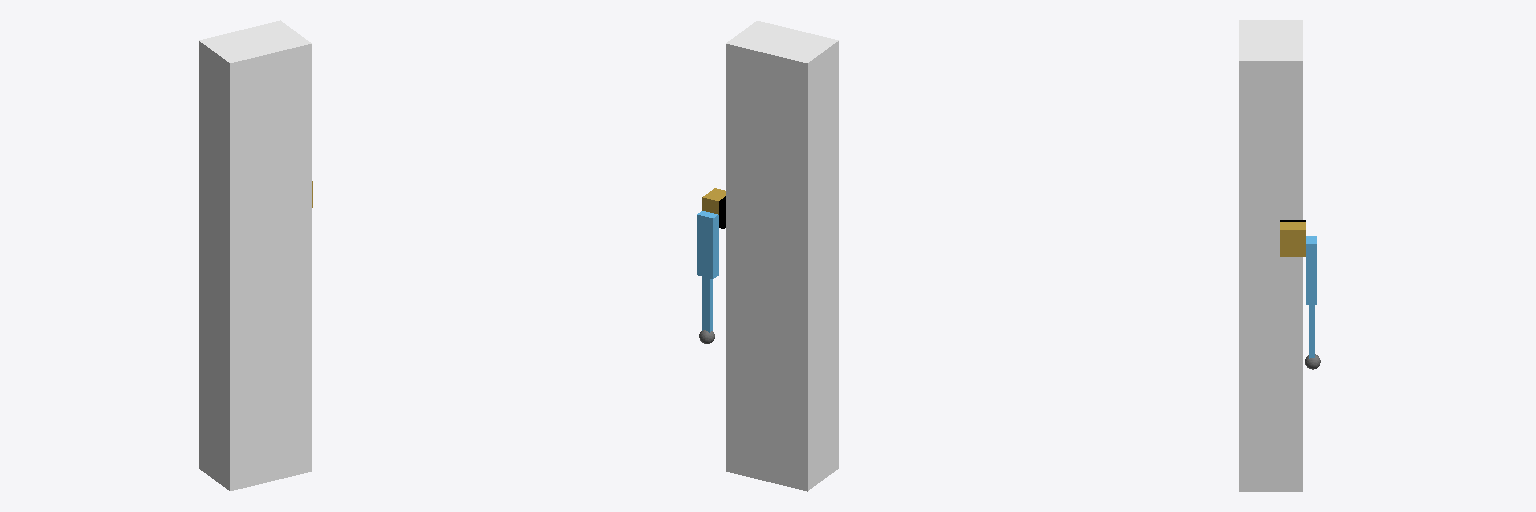
URDF robot description (leg):
<?xml version="1.0" ?>


<robot name="leg" xmlns:xacro="http://www.ros.org/wiki/xacro">


    <gazebo>
        <plugin filename="libgazebo_ros_control.so" name="gazebo_ros_control">
            <robotNamespace>/leg</robotNamespace>
            <robotSimType>
                gazebo_ros_control/DefaultRobotHWSim
            </robotSimType>
        </plugin>
    </gazebo>

    <gazebo>
        <plugin filename="libgazebo_ros_p3d.so" name="p3d_base_controller">
            <alwaysOn>true</alwaysOn>
            <updateRate>10.0</updateRate>
            <bodyName>trunk</bodyName>
            <bodyName>hip</bodyName>
            <bodyName>calf</bodyName>
            <bodyName>foot</bodyName>
            <topicName>odom</topicName>
            <gaussianNoise>0.01</gaussianNoise>
            <frameName>world</frameName>
            <xyzOffsets>0 0 0</xyzOffsets>
            <rpyOffsets>0 0 0</rpyOffsets>
        </plugin>
  </gazebo>


    <material name="black">
        <color rgba="0.0 0.0 0.0 1.0"/>
    </material>
    <material name="blue">
        <color rgba="0.0 0.0 0.8 1.0"/>
    </material>
    <material name="green">
        <color rgba="0.0 0.8 0.0 1.0"/>
    </material>
    <material name="grey">
        <color rgba="0.2 0.2 0.2 1.0"/>
    </material>
    <material name="silver">
        <color rgba="0.913725490196 0.913725490196 0.847058823529 1.0"/>
    </material>
    <material name="orange">
        <color rgba="1.0 0.423529411765 0.0392156862745 1.0"/>
    </material>
    <material name="brown">
        <color rgba="0.870588235294 0.811764705882 0.764705882353 1.0"/>
    </material>
    <material name="white_gray">
        <color rgba="0.823529411765 0.823529411765 0.823529411765 1.0"/>
    </material>
    <material name="gold">
        <color rgba="0.811764705882 0.678431372549 0.301960784314 1.0"/>
    </material>
    <material name="white_blue">
        <color rgba="0.462745098039 0.8 0.992156862745 1.0"/>
    </material>
    <material name="white_black">
        <color rgba="0.494117647059 0.494117647059 0.494117647059 1.0"/>
    </material>
    <material name="red">
        <color rgba="0.8 0.0 0.0 1.0"/>
    </material>
    <material name="white">
        <color rgba="1.0 1.0 1.0 1.0"/>
    </material>

    <gazebo refrence="trunk">
        <mu1>0.9</mu1>
        <mu2>0.9</mu2>
        <material>Gazebo/DarkGrey</material>
    </gazebo>

    <gazebo refrence="jump">
        <mu1>0.9</mu1>
        <mu2>0.9</mu2>
        <material>Gazebo/DarkGrey</material>
    </gazebo>

    <gazebo reference="hip">
        <mu1>0.9</mu1>
        <mu2>0.9</mu2>
        <material>Gazebo/Orange</material>
  </gazebo>
  <gazebo reference="thigh">
        <mu1>0.9</mu1>
        <mu2>0.9</mu2>
        <self_collide>1</self_collide>
        <material>Gazebo/White</material>
        <kp value="1000000.0"/>
        <kd value="1.0"/>
  </gazebo>
  <gazebo reference="calf">
        <mu1>0.9</mu1>
        <mu2>0.9</mu2>
        <self_collide>1</self_collide>
      <material>Gazebo/DarkGray</material>
  </gazebo>
  <gazebo reference="foot">
        <mu1>0.9</mu1>
        <mu2>0.9</mu2>
        <self_collide>1</self_collide>
        <material>Gazebo/DarkGray</material>
        <kp value="1000000.0"/>
        <kd value="1.0"/>
  </gazebo>

    <link name="world"/>
    <gazebo reference="world">
        <static>true</static>
    </gazebo>

    <link name="trunk">
        <visual>
        <origin rpy="0 0 0" xyz="0 0 0.75"/>
        <geometry>
            <box size="0.3 0.2 1.5"/>
        </geometry>
        <material name="white"/>
        </visual>
        <collision>
            <origin rpy="0 0 0" xyz="0 0 0.75"/>
            <geometry>
                <box size="0.3 0.2 1.5"/>
            </geometry>
        </collision>
        <inertial>
            <origin rpy="0 0 0" xyz="0 0 0.75"/>
            <mass value="100"/>
            <inertia ixx="0.011253" ixy="0" ixz="0.0" iyy="0.036203" iyz="-0.0" izz="0.042673"/>
            </inertial>
        </link>

    <joint name="trunk_to_world" type="fixed">
        <origin rpy="0 0 0" xyz="0 0 0"/>
        <parent link="world"/>
        <child link="trunk"/>
    </joint>

    <joint name="jumper" type="prismatic">
        <parent link="trunk"/>
        <axis xyz="0 0 1"/>
        <child link="jump"/>
        <limit effort="20" lower="-0.2" upper="0.5" velocity="0.5"/>
        <origin rpy="0 0 0" xyz="0.15 0.07 0.9"/>
        <dynamics damping="0.1" friction="1"/>
    </joint>


    <link name="jump">
        <visual>
            <origin rpy="3.14159265359 0 0" xyz="0.01 0 0"/>
            <geometry>
                <box size="0.02 0.08 0.093"/>
            </geometry>
            <material name="black"/>
        </visual>
        <collision>
            <origin rpy="3.14159265359 0 0" xyz="0.01 0 0"/>
            <geometry>
                <box size="0.02 0.08 0.093"/>
            </geometry>
        </collision>
        <inertial>
            <origin rpy="0 0 0" xyz="0.01 0 0"/>
            <mass value="0.002"/>
            <inertia ixx="0.0007148275" ixy="0.0" ixz="0.0" iyy="0.0007955775" iyz="0.0" izz="0.00068875"/>
        </inertial>
    </link>

    <joint name="hip_joint" type="revolute">
        <origin rpy="0 0 0" xyz="0.02 0 0"/>
        <parent link="jump"/>
        <child link="hip"/>
        <axis xyz="1 0 0"/>
        <dynamics damping="0.1" friction="0.1"/>
        <limit effort="20" lower="-0.872664625997" upper="1.0471975512" velocity="1.6"/>
  </joint>

  <link name="hip">
    <visual>
      <origin rpy="3.14159265359 0 0" xyz="0.03 0 0"/>
      <geometry>
        <box size="0.06 0.08 0.093"/>
      </geometry>
      <material name="gold"/>
    </visual>
    <collision>
      <origin rpy="3.14159265359 0 0" xyz="0.03 0 0"/>
      <geometry>
        <box size="0.06 0.08 0.093"/>
      </geometry>
    </collision>
    <inertial>
      <origin rpy="3.14159265359 0 0" xyz="0.03 0 0.0"/>
      <mass value="0.63"/>
      <inertia ixx="0.0007148275" ixy="0.0" ixz="0.0" iyy="0.0007955775" iyz="0.0" izz="0.00068875"/>
    </inertial>

  </link>
    <joint name="thigh_joint" type="revolute">
    <origin rpy="0 0 0" xyz="0.03 0.04 0"/>
    <parent link="hip"/>
    <child link="thigh"/>
    <axis xyz="0 1 0"/>
    <dynamics damping="0.1" friction="0.1" />
    <limit effort="20" lower="-0.523598775598" upper="3.92699081699" velocity="1.6"/>
  </joint>

  <link name="thigh">
    <visual>
      <origin rpy="3.14159265359 3.14159265359 0" xyz="0 0.017 -0.10655"/>
      <geometry>
        <box size="0.06 0.034 0.2131"/>
      </geometry>
      <material name="white_blue"/>
    </visual>
    <collision>
      <origin rpy="3.14159265359 3.14159265359 0" xyz="0 0.017 -0.10655"/>
      <geometry>
        <box size="0.06 0.034 0.2131"/>
      </geometry>
      <material name="white_blue"/>
    </collision>
    <inertial>
      <origin rpy="0 0 0" xyz="0.0 0.021 -0.10655"/>
      <mass value="1.062"/>
      <inertia ixx="0.00261820866667" ixy="0.0" ixz="0.0" iyy="0.00265482216667" iyz="0.0" izz="0.000158764166667"/>
    </inertial>
  </link>
  <!-- //////////////////////calf//////////////////// -->
  <joint name="calf_joint" type="revolute">
    <origin rpy="0 0 0" xyz="0 0.01 -0.2131"/>
<!--    <origin rpy="0 0 0" xyz="0 0.01 -0.1881"/>-->
    <parent link="thigh"/>
    <child link="calf"/>
    <axis xyz="0 1 0"/>
    <dynamics damping="0.1" friction="0.1"/>
    <limit effort="20" lower="-3.14159265359" upper="3.14159265359" velocity="1.6"/>
  </joint>
  <link name="calf">
    <visual>
      <origin rpy="0 0 0" xyz="0.0 0.01 -0.10574"/>
      <geometry>
        <box size="0.03 0.02 0.21148"/>
          <!--mesh filename="package://first_leg/mesh/calf.dae" scale="1 1 1"/-->
      </geometry>
      <material name="white_blue"/>
    </visual>
    <collision>
      <origin rpy="0 0 0" xyz="0.0 0.01 -0.10574"/>
      <geometry>
          <box size="0.03 0.02 0.21148"/>
        <!--mesh filename="package://first_leg/mesh/Sim_0_00_04.STL" scale="1 1 1"/-->
      </geometry>
    </collision>
    <inertial>
      <origin rpy="0 0 0" xyz="0.0 0.0 -0.10574"/>
      <mass value="0.133"/>
      <inertia ixx="0.000214698666667" ixy="0.0" ixz="0.0" iyy="0.000214698666667" iyz="0.0" izz="2.73066666667e-06"/>
    </inertial>
  </link>
  <!-- //////////////////////foot//////////////////// -->
  <joint name="foot_fixed" type="fixed">
    <origin rpy="0 0 0" xyz="0 0.01 -0.21148"/>
<!--    <origin rpy="0 0 0" xyz="0 0.01 -0.1881"/>-->
    <parent link="calf"/>
    <child link="foot"/>
    <axis xyz="0 1 0"/>
    <dynamics damping="0.1" friction="0.1"/>
    <limit effort="20" lower="-3.14159265359" upper="3.14159265359" velocity="10.6"/>
  </joint>

  <link name="foot">
    <visual>
      <origin rpy="0 0 0" xyz="0 0.002 0"/>
      <geometry>
        <sphere radius="0.025"/>
      </geometry>
      <material name="white_black"/>
    </visual>
    <collision>
      <origin rpy="0 0 0" xyz="0 0.002 0"/>
      <geometry>
        <sphere radius="0.025"/>
      </geometry>
    </collision>
    <inertial>
      <origin rpy="0 0 0" xyz="0 0.002 -0.025"/>
      <mass value="0.05"/>
      <inertia ixx="4.2135e-05" ixy="0.0" ixz="0.0" iyy="4.2135e-05" iyz="0.0" izz="4.2135e-05"/>
    </inertial>
  </link>

  <!--/////////////// transmission tags ////////////////////// -->

    <transmission name="jump_trans">
    <type>transmission_interface/SimpleTransmission</type>
    <joint name="jumper">
      <hardwareInterface>hardware_interface/EffortJointInterface</hardwareInterface>
    </joint>
    <actuator name="jump_motor">
      <hardwareInterface>hardware_interface/EffortJointInterface</hardwareInterface>
      <mechanicalReduction>1</mechanicalReduction>
    </actuator>
  </transmission>
  <transmission name="hip_tran">
    <type>transmission_interface/SimpleTransmission</type>
    <joint name="hip_joint">
      <hardwareInterface>hardware_interface/EffortJointInterface</hardwareInterface>
    </joint>
    <actuator name="hip_motor">
      <hardwareInterface>hardware_interface/EffortJointInterface</hardwareInterface>
      <mechanicalReduction>1</mechanicalReduction>
    </actuator>
  </transmission>
  <transmission name="thigh_tran">
    <type>transmission_interface/SimpleTransmission</type>
    <joint name="thigh_joint">
      <hardwareInterface>hardware_interface/EffortJointInterface</hardwareInterface>
    </joint>
    <actuator name="thigh_motor">
      <hardwareInterface>hardware_interface/EffortJointInterface</hardwareInterface>
      <mechanicalReduction>1</mechanicalReduction>
    </actuator>
  </transmission>
  <transmission name="calf_tran">
    <type>transmission_interface/SimpleTransmission</type>
    <joint name="calf_joint">
      <hardwareInterface>hardware_interface/EffortJointInterface</hardwareInterface>
    </joint>
    <actuator name="calf_motor">
      <hardwareInterface>hardware_interface/EffortJointInterface</hardwareInterface>
      <mechanicalReduction>1</mechanicalReduction>
    </actuator>
  </transmission>
</robot>

--- Render facts (derived) ---
3 views of the same robot in one strip: view 1: azimuth 30°, elevation 25°; view 2: azimuth 150°, elevation 25°; view 3: azimuth 270°, elevation 25° (orthographic).
Model leg with 7 links and 6 joints (3 revolute, 1 prismatic, 2 fixed), rooted at world, posed every joint at zero.
Visible links, largest first — view 1: trunk; view 2: trunk, thigh, calf; view 3: trunk, hip, thigh.
Link boxes in pixels (x1=…): trunk: x1=199, y1=20, x2=311, y2=490; trunk: x1=726, y1=21, x2=838, y2=491; thigh: x1=697, y1=211, x2=718, y2=278; calf: x1=702, y1=277, x2=712, y2=332; trunk: x1=1239, y1=20, x2=1302, y2=491; hip: x1=1280, y1=222, x2=1305, y2=256; thigh: x1=1306, y1=236, x2=1316, y2=304.
Bounding box of the posed robot: 0.38 × 0.257 × 1.5 m (x, y, z).
Geometry: primitives only (box / cylinder / sphere), no mesh files.